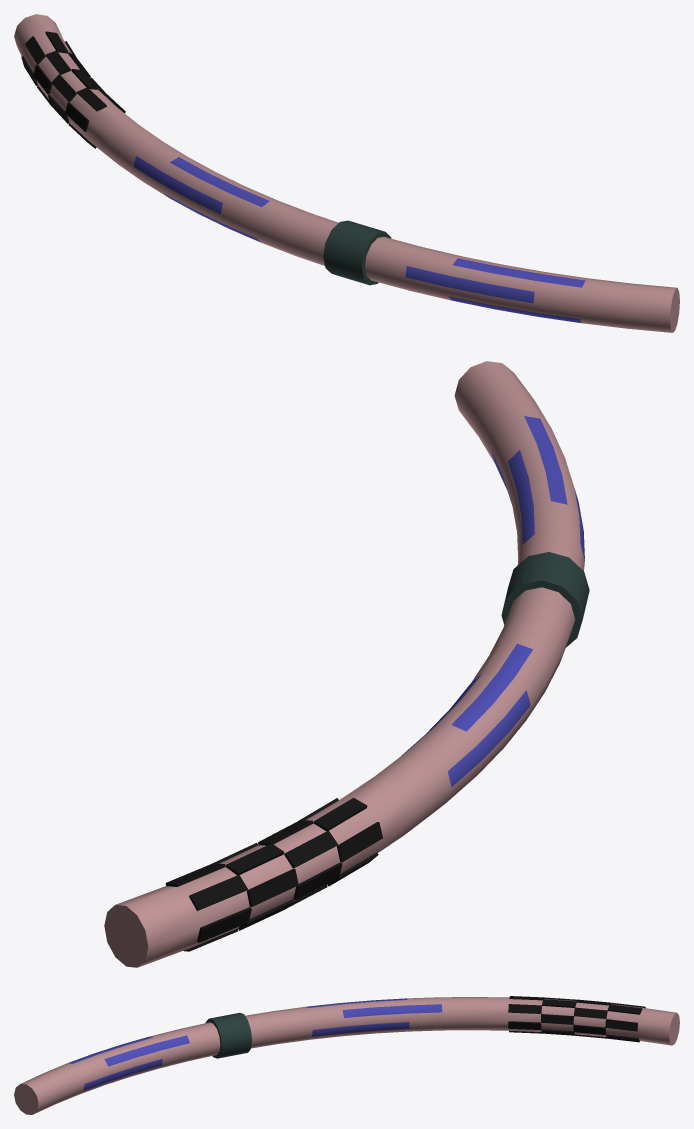
Rendered from cylindre principal.fbx.
3 views of the same model, one above another, from view 1: azimuth 30°, elevation 25°; view 2: azimuth 150°, elevation 25°; view 3: azimuth 270°, elevation 25° (orthographic). The views are drawn at different scales.
Visible parts, largest first — view 1: Arc001; view 2: Arc001; view 3: Arc001.
Part boxes in pixels (<box>): Arc001: <box>14,14,679,332</box>; Arc001: <box>104,361,589,967</box>; Arc001: <box>14,996,679,1114</box>.
Bounding box in the file's own units: 1506 × 267 × 4335.
